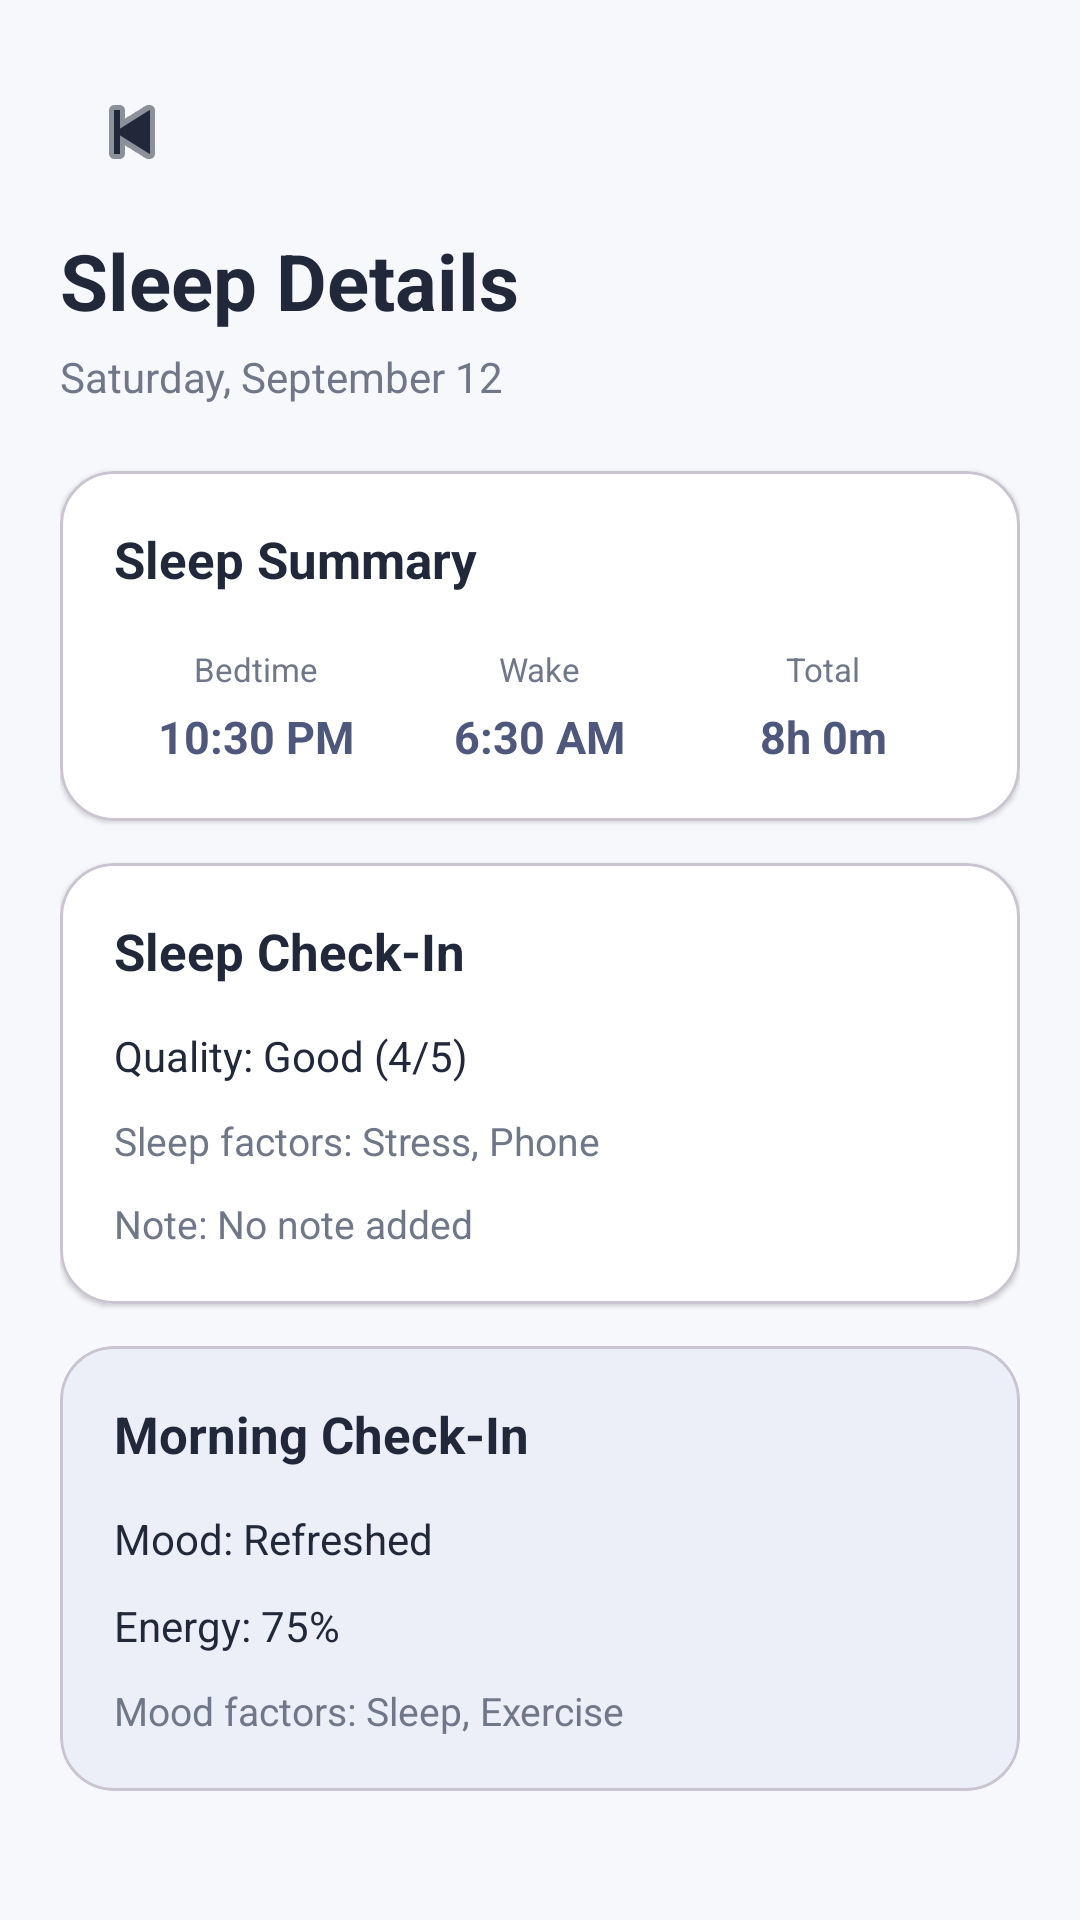

Where icons sit on this 1080 x 1920 app screen, as (x1, y1, x2, y2):
Back: (109, 105, 155, 159)
